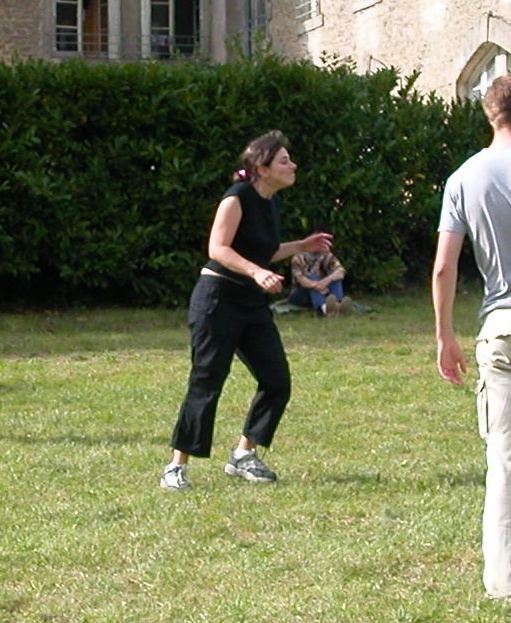person: (154, 134, 310, 488)
